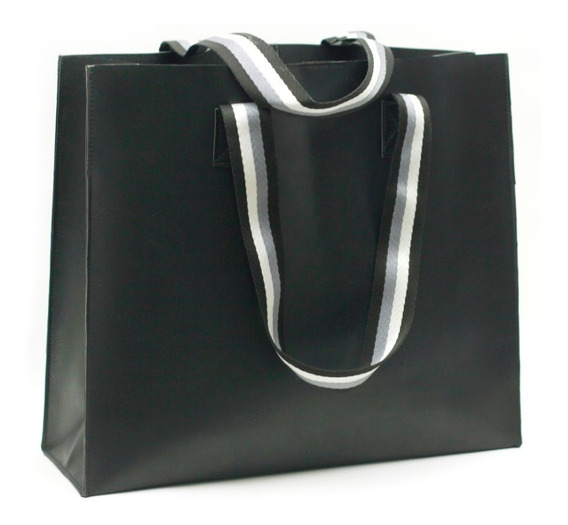cartera: (38, 32, 527, 500)
